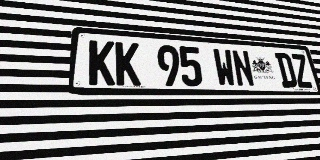5: (178, 46, 204, 86)
9: (157, 44, 182, 86)
D: (274, 52, 298, 88)
K: (88, 40, 115, 85), (115, 42, 141, 86)
N: (231, 50, 255, 87)
W: (212, 48, 237, 87)
Z: (290, 54, 313, 88)
